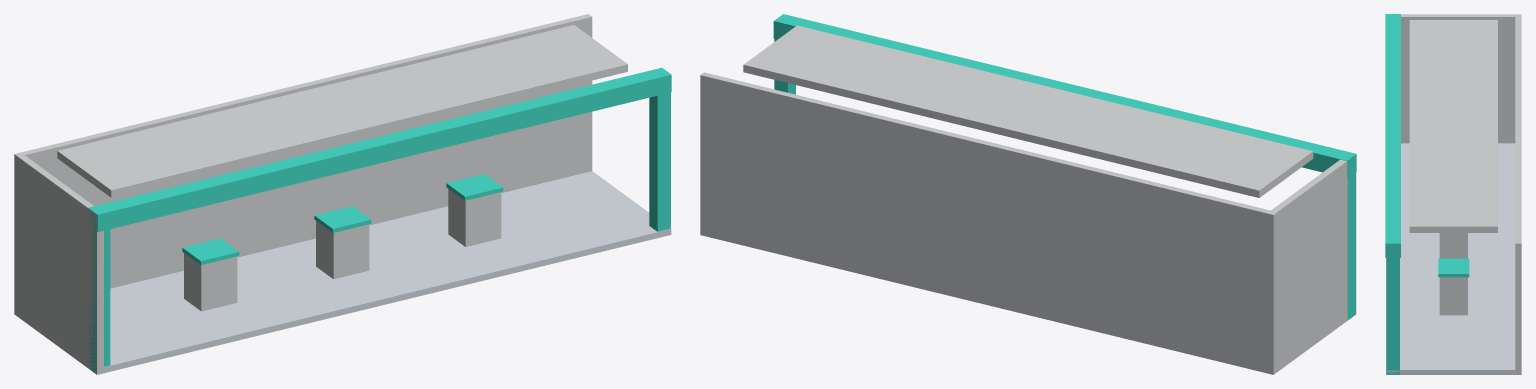
3 renders of one model, left to right at view 1: azimuth 30°, elevation 25°; view 2: azimuth 150°, elevation 25°; view 3: azimuth 270°, elevation 25°, orthographic. The views are drawn at different scales.
Parts seen in each view (by area): view 1: Exhibition Booth Concept; view 2: Exhibition Booth Concept; view 3: Exhibition Booth Concept.
Boxes of the visible parts, bbox=[...] form: Exhibition Booth Concept: bbox=[14, 14, 671, 374]; Exhibition Booth Concept: bbox=[700, 14, 1356, 374]; Exhibition Booth Concept: bbox=[1385, 14, 1521, 374].
Size of the model in its own units: 12 by 3.34 by 3.01.
